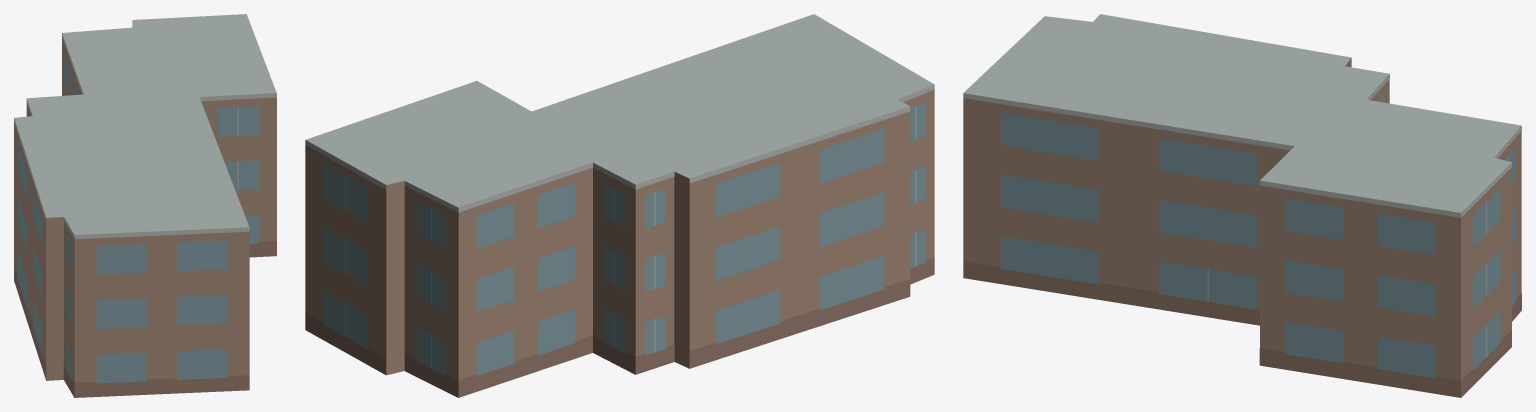
The model's file is survey-upis-32492189.glb.
The picture shows the model from 3 angles, left to right: view 1: azimuth 30°, elevation 25°; view 2: azimuth 150°, elevation 25°; view 3: azimuth 270°, elevation 25°; orthographic projection. The views are drawn at different scales.
Visible parts, largest first — view 1: survey-upis-32492189.tmp; view 2: survey-upis-32492189.tmp; view 3: survey-upis-32492189.tmp.
Boxes of the visible parts, x1,y1,x2,y2 form: survey-upis-32492189.tmp: (14, 14, 276, 397); survey-upis-32492189.tmp: (305, 14, 934, 397); survey-upis-32492189.tmp: (963, 14, 1521, 397).
Size of the model in its own units: 21.12 by 9.15 by 25.06.
